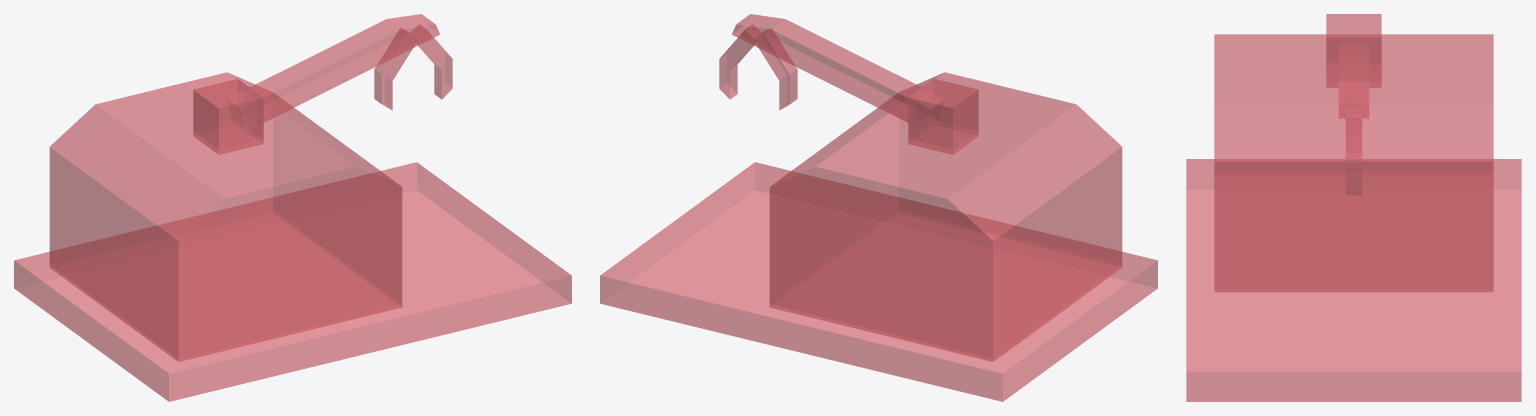
File: vehicle_depot.gltf
The picture shows the model from 3 angles, left to right: view 1: azimuth 30°, elevation 25°; view 2: azimuth 150°, elevation 25°; view 3: azimuth 270°, elevation 25°; orthographic projection. The views are drawn at different scales.
Visible parts, largest first — view 1: Cube; view 2: Cube; view 3: Cube.
Part boxes in pixels (x1,y1,x2,y2): Cube: [14, 14, 571, 401]; Cube: [600, 14, 1157, 401]; Cube: [1186, 14, 1521, 401].
Bounding box in the file's own units: 60 × 35.19 × 40.
